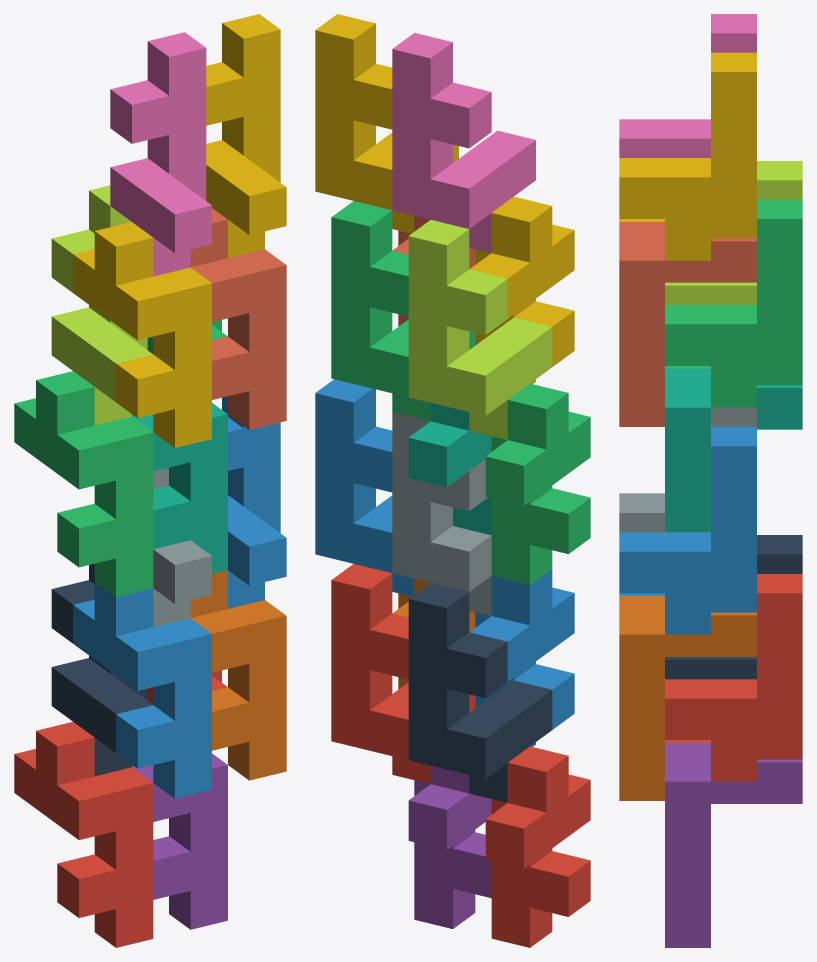
Rendered from tiling.obj.
3 renders of one model, left to right at view 1: azimuth 30°, elevation 25°; view 2: azimuth 150°, elevation 25°; view 3: azimuth 270°, elevation 25°, orthographic. The views are drawn at different scales.
Parts seen in each view (by area): view 1: copy_1_domain_3, copy_1_domain_1, copy_1_domain_4, copy_1_domain_2, copy_2_domain_4, copy_2_domain_8, copy_1_domain_8, copy_1_domain_6, copy_1_domain_5, copy_2_domain_6, copy_1_domain_7, copy_2_domain_3 (+2 smaller); view 2: copy_2_domain_1, copy_2_domain_3, copy_2_domain_4, copy_1_domain_3, copy_1_domain_1, copy_2_domain_7, copy_2_domain_5, copy_2_domain_8, copy_2_domain_6, copy_2_domain_2, copy_1_domain_5, copy_1_domain_4 (+4 smaller); view 3: copy_2_domain_6, copy_2_domain_7, copy_2_domain_8, copy_2_domain_5, copy_1_domain_5, copy_1_domain_6, copy_1_domain_8, copy_1_domain_7, copy_2_domain_4, copy_2_domain_1, copy_2_domain_3, copy_2_domain_2.
Part boxes in pixels (box(x1,y1,x2,y2)): copy_1_domain_3: box(14, 371, 153, 597); copy_1_domain_1: box(14, 722, 153, 947); copy_1_domain_4: box(73, 222, 211, 447); copy_1_domain_2: box(73, 582, 211, 798); copy_2_domain_4: box(110, 32, 211, 276); copy_2_domain_8: box(206, 14, 286, 258); copy_1_domain_8: box(190, 208, 286, 429); copy_1_domain_6: box(190, 570, 286, 780); copy_1_domain_5: box(132, 753, 227, 929); copy_2_domain_6: box(222, 396, 286, 608); copy_1_domain_7: box(132, 403, 227, 573); copy_2_domain_3: box(51, 185, 152, 425); copy_2_domain_1: box(408, 582, 552, 802); copy_2_domain_3: box(408, 220, 552, 439); copy_2_domain_4: box(392, 33, 535, 252); copy_1_domain_3: box(485, 383, 590, 584); copy_1_domain_1: box(485, 746, 590, 947); copy_2_domain_7: box(331, 201, 475, 421); copy_2_domain_5: box(331, 564, 475, 783); copy_2_domain_8: box(315, 14, 458, 233); copy_2_domain_6: box(315, 379, 414, 596); copy_2_domain_2: box(392, 412, 491, 615); copy_1_domain_5: box(408, 765, 491, 928); copy_1_domain_4: box(469, 196, 574, 383); copy_2_domain_6: box(619, 427, 756, 634); copy_2_domain_7: box(665, 199, 802, 407); copy_2_domain_8: box(619, 52, 756, 260); copy_2_domain_5: box(665, 574, 802, 781); copy_1_domain_5: box(665, 743, 802, 947); copy_1_domain_6: box(619, 596, 756, 800); copy_1_domain_8: box(619, 222, 756, 426); copy_1_domain_7: box(665, 368, 802, 532); copy_2_domain_4: box(619, 14, 756, 157); copy_2_domain_1: box(665, 535, 802, 679); copy_2_domain_3: box(665, 161, 802, 304); copy_2_domain_2: box(619, 407, 756, 532).
Bounding box in the file's own units: 6 × 22 × 4.
